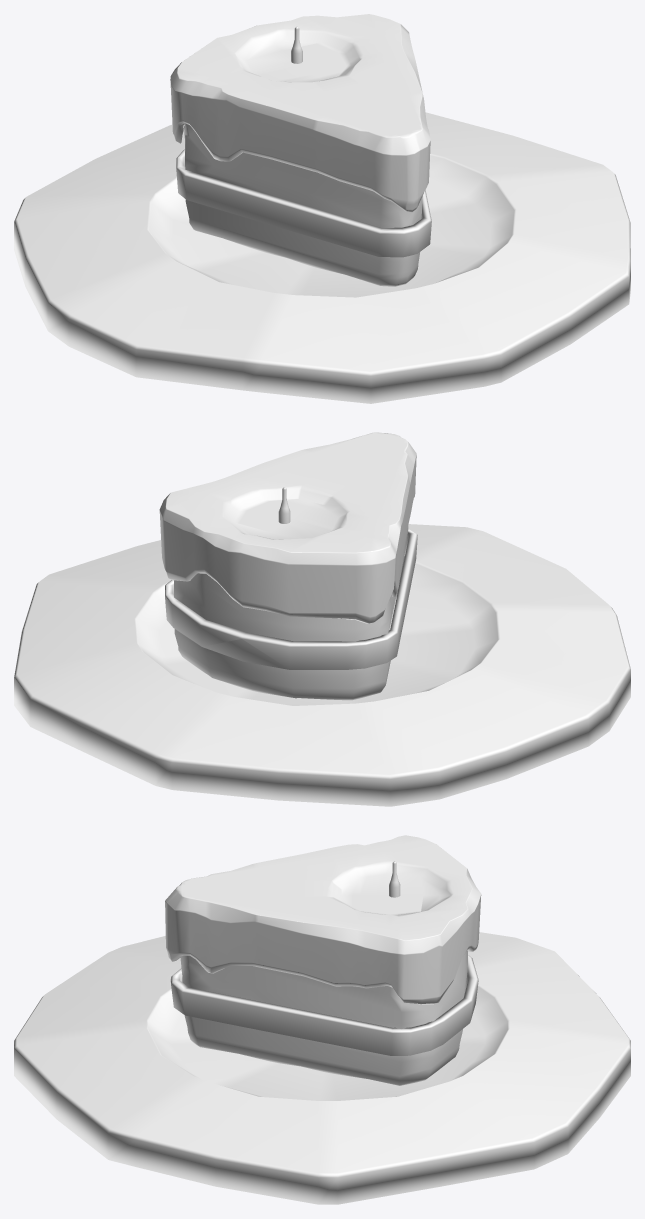
File: PropBirthdayCakeS.glb
The picture shows the model from 3 angles, top to bottom: view 1: azimuth 30°, elevation 25°; view 2: azimuth 150°, elevation 25°; view 3: azimuth 270°, elevation 25°; orthographic projection. The views are drawn at different scales.
Visible parts, largest first — view 1: PropBirthdayCakeS; view 2: PropBirthdayCakeS; view 3: PropBirthdayCakeS.
Part boxes in pixels (<box>): PropBirthdayCakeS: <box>14,14,630,403</box>; PropBirthdayCakeS: <box>14,432,630,806</box>; PropBirthdayCakeS: <box>14,835,630,1204</box>.
Bounding box in the file's own units: 3.22 × 1.21 × 3.16.
Materials: 1 (1 with a texture image).
